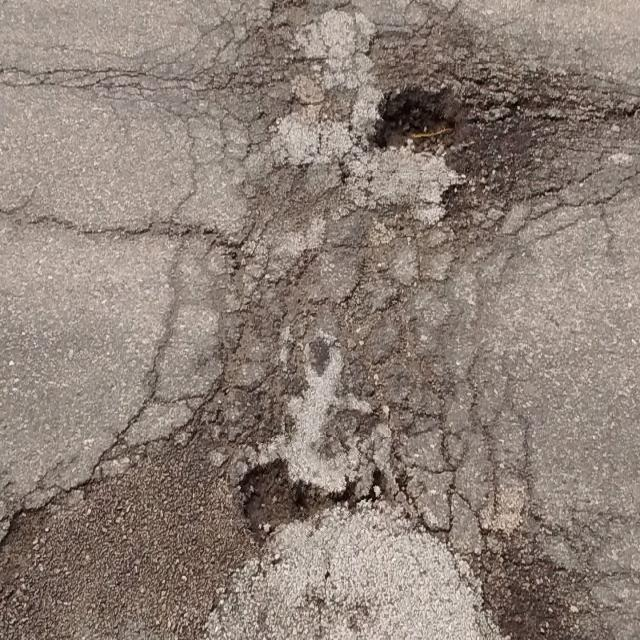Pothole: (232, 437, 396, 551), (367, 64, 463, 170)
